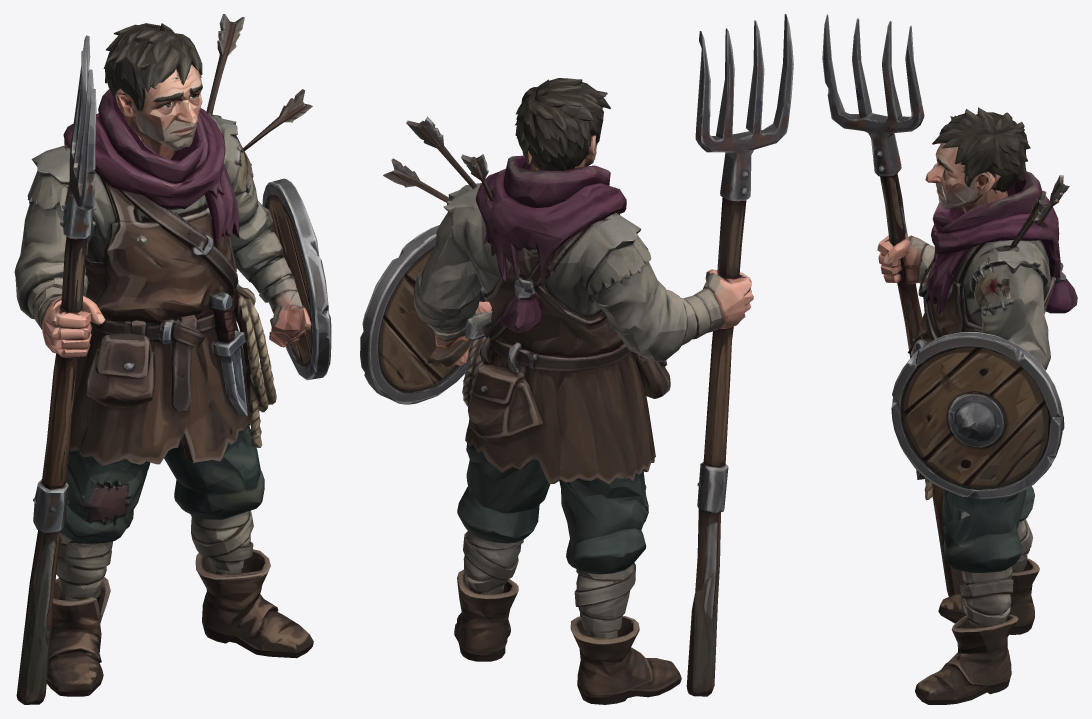
Rendered from pitchfork_peasant_pawn.glb.
3 renders of one model, left to right at view 1: azimuth 30°, elevation 25°; view 2: azimuth 150°, elevation 25°; view 3: azimuth 270°, elevation 25°, orthographic. The views are drawn at different scales.
Visible parts, largest first — view 1: Mesh_0; view 2: Mesh_0; view 3: Mesh_0.
Part boxes in pixels (x1,y1,x2,y2): Mesh_0: (14, 14, 331, 704); Mesh_0: (360, 14, 793, 704); Mesh_0: (822, 14, 1077, 704).
Size of the model in its own units: 0.9666 by 1.9 by 0.7523.
1 material, 1 textured.
